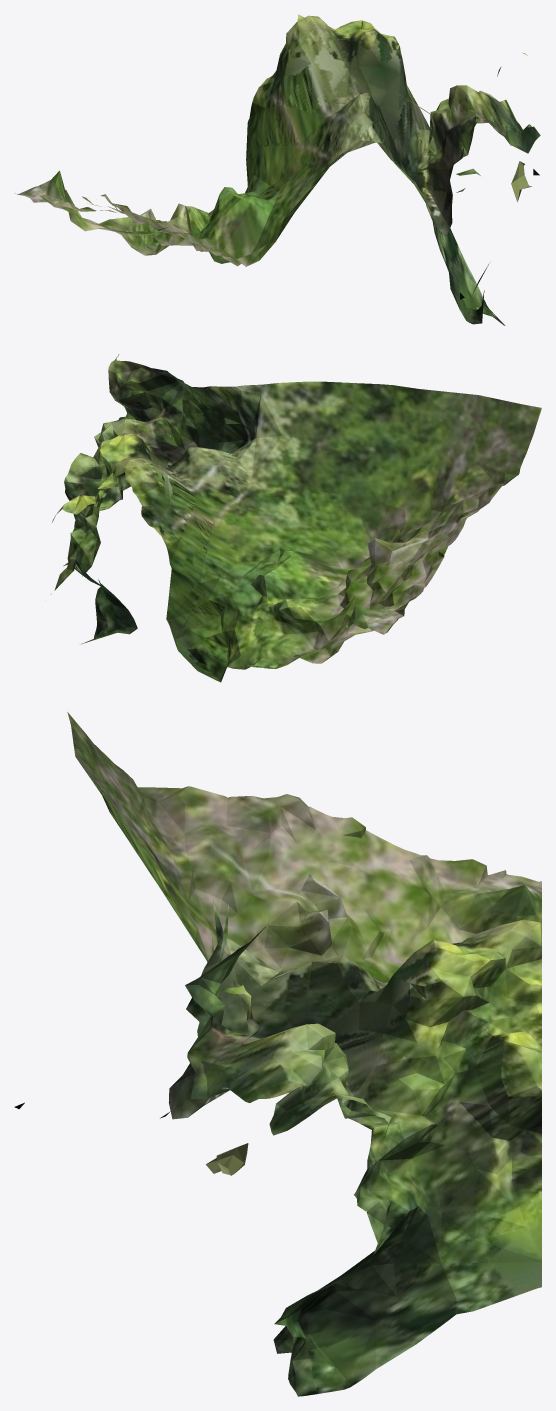
3 views of the same model, one above another, from view 1: azimuth 30°, elevation 25°; view 2: azimuth 150°, elevation 25°; view 3: azimuth 270°, elevation 25° (orthographic). The views are drawn at different scales.
Size of the model in its own units: 26.11 by 17.84 by 20.96.
Materials: 3 (3 with a texture image).
